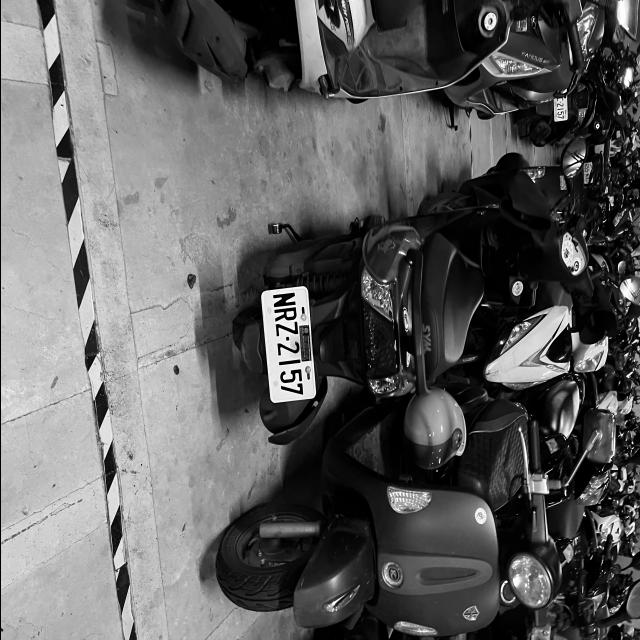-: (284, 336, 288, 342), (558, 102, 560, 104)
1: (278, 358, 300, 366), (556, 108, 562, 111)
2: (276, 341, 300, 357), (556, 104, 563, 108)
5: (279, 368, 303, 383), (557, 110, 563, 116)
7: (278, 383, 306, 399), (556, 116, 564, 120)
N: (272, 292, 296, 308)
R: (274, 308, 296, 322)
Z: (276, 322, 298, 337)
plate: (266, 289, 306, 403)
